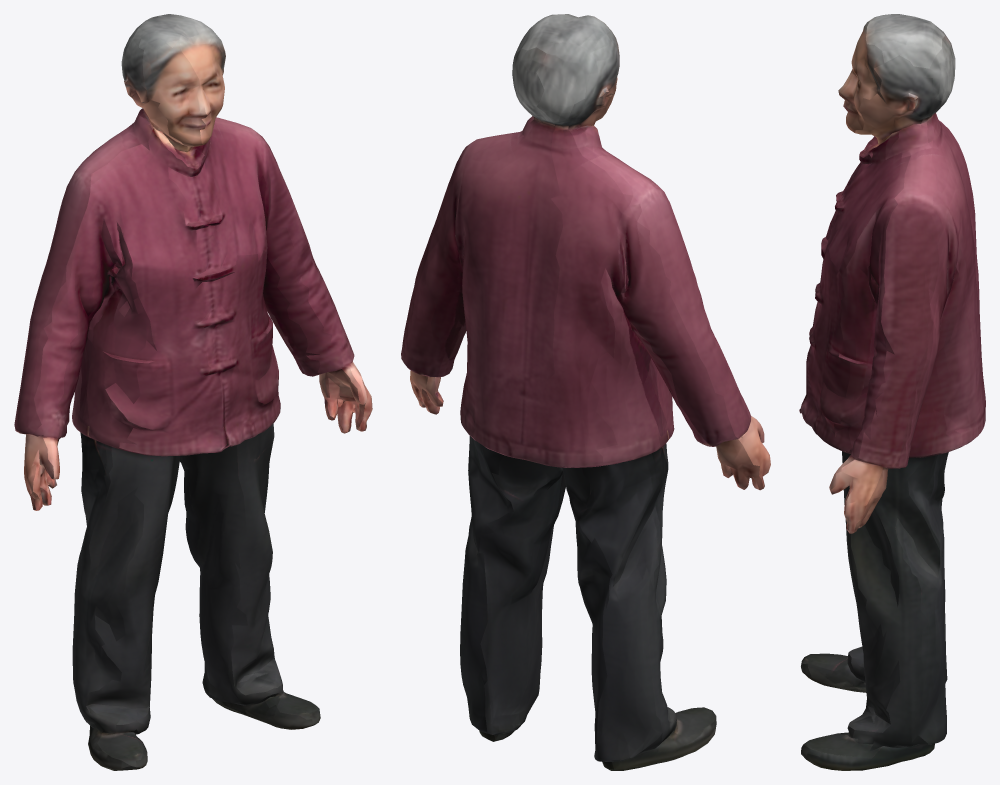
Rendered from grandma.glb.
3 views of the same model, side by side, from view 1: azimuth 30°, elevation 25°; view 2: azimuth 150°, elevation 25°; view 3: azimuth 270°, elevation 25° (orthographic). The views are drawn at different scales.
Parts seen in each view (by area): view 1: geometry_0; view 2: geometry_0; view 3: geometry_0.
Boxes of the visible parts, x1,y1,x2,y2 form: geometry_0: (14,14,372,770); geometry_0: (401,14,770,770); geometry_0: (799,14,985,770).
Size of the model in its own units: 0.795 by 1.55 by 0.3754.
Materials: 1 (1 with a texture image).
